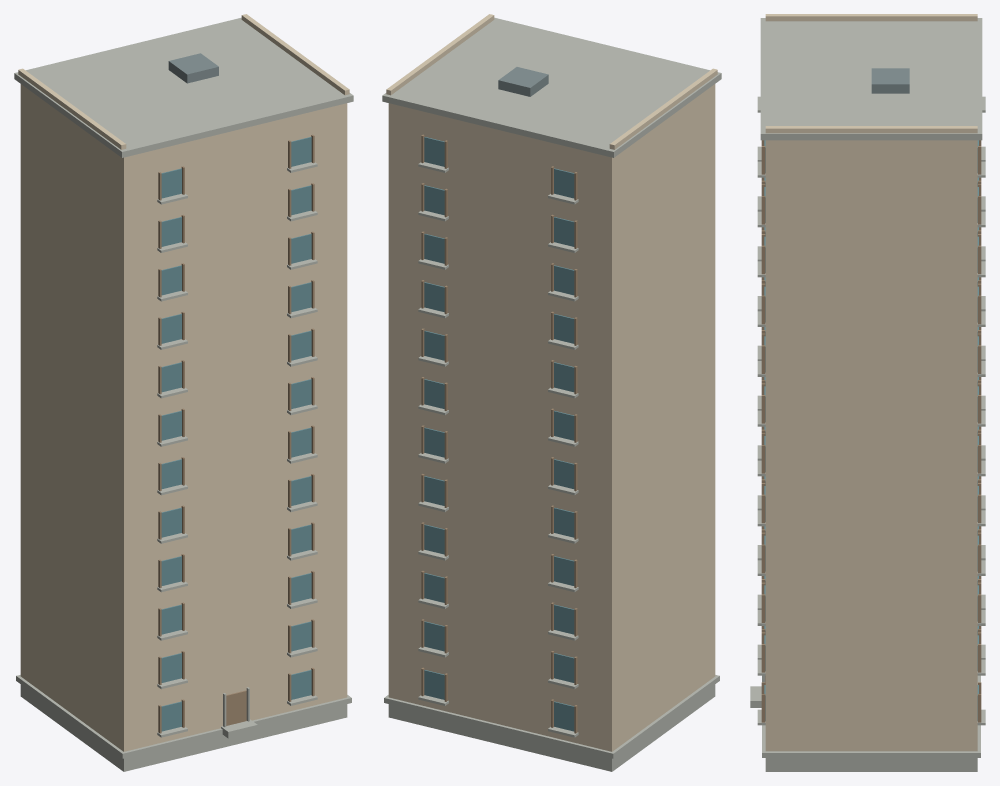
File: tower-2.glb
3 views of the same model, side by side, from view 1: azimuth 30°, elevation 25°; view 2: azimuth 150°, elevation 25°; view 3: azimuth 270°, elevation 25° (orthographic). The views are drawn at different scales.
Bounding box in the file's own units: 7.25 × 18.9 × 6.21.
